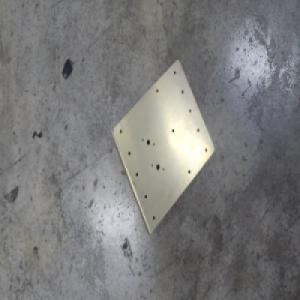MetalSheet: (109, 58, 216, 238)
